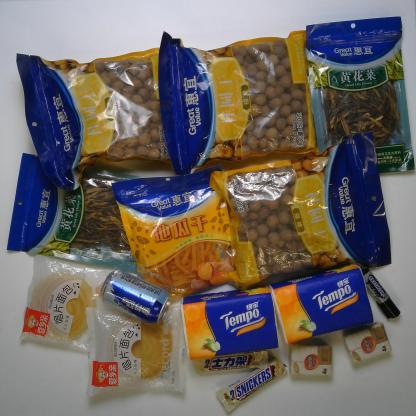Alcohol: (100, 268, 169, 325)
Chocolate: (217, 356, 288, 412), (192, 344, 268, 373)
Dessert: (80, 300, 196, 402), (24, 252, 121, 355)
Dried Food: (210, 130, 392, 292), (18, 50, 197, 190), (160, 30, 331, 175), (9, 151, 164, 276), (303, 16, 415, 175)
Dried Fruit: (115, 163, 242, 304)
Stationery: (360, 265, 398, 321)
Tissue: (271, 260, 374, 346), (179, 286, 280, 360), (289, 340, 335, 380), (344, 326, 393, 363)
